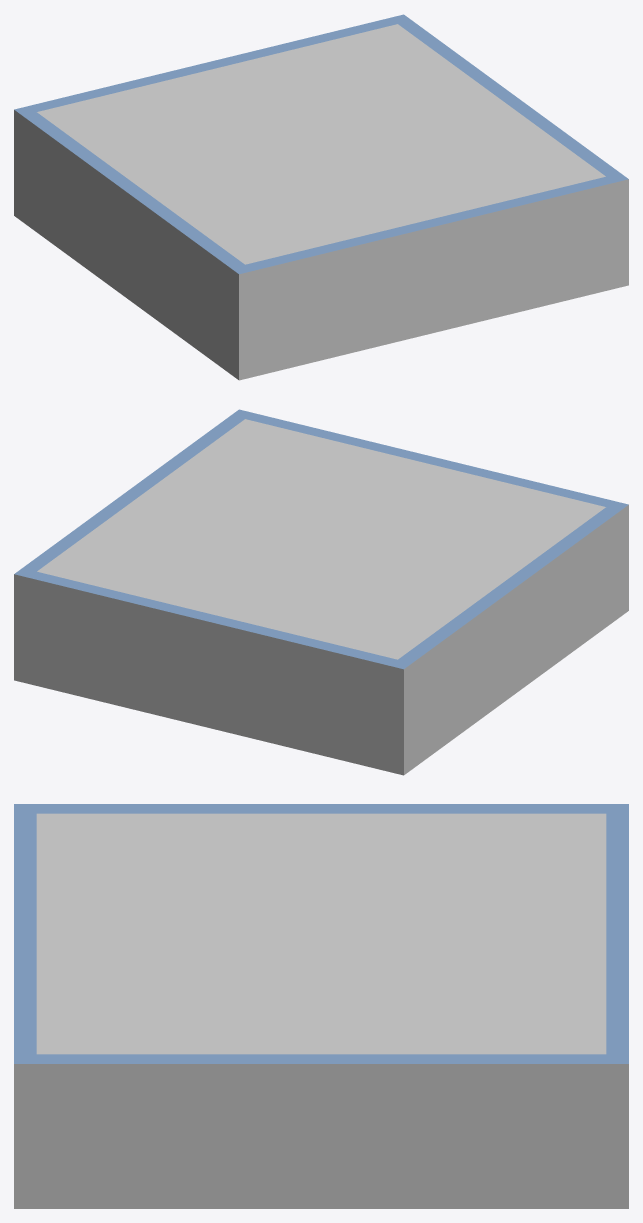
File: FloorTile001.fbx
3 views of the same model, one above another, from view 1: azimuth 30°, elevation 25°; view 2: azimuth 150°, elevation 25°; view 3: azimuth 270°, elevation 25° (orthographic). The views are drawn at different scales.
Visible parts, largest first — view 1: Cube.003; view 2: Cube.003; view 3: Cube.003.
Boxes of the visible parts, x1=… form: Cube.003: x1=14, y1=14, x2=628, y2=380; Cube.003: x1=14, y1=409, x2=628, y2=775; Cube.003: x1=14, y1=804, x2=628, y2=1208.
Size of the model in its own units: 1 by 0.2603 by 1.
